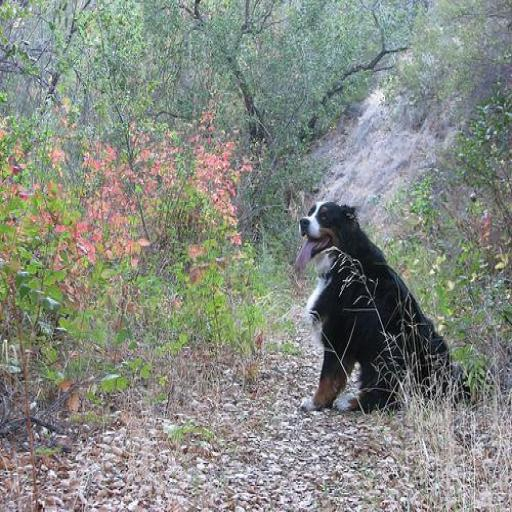dog_face: (297, 196, 351, 261)
